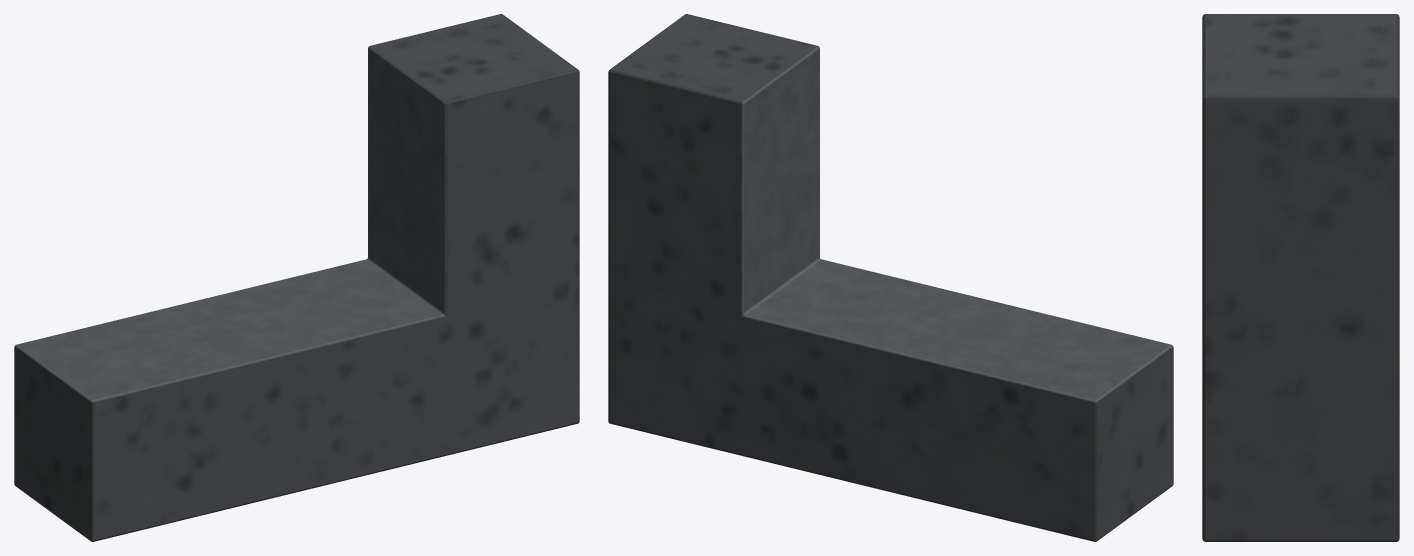
The model's file is C-stylized-tooling.glb.
3 views of the same model, side by side, from view 1: azimuth 30°, elevation 25°; view 2: azimuth 150°, elevation 25°; view 3: azimuth 270°, elevation 25° (orthographic). The views are drawn at different scales.
Parts seen in each view (by area): view 1: C export coupon; view 2: C export coupon; view 3: C export coupon.
Part boxes in pixels (x1,y1,x2,y2): C export coupon: (14,14,579,541); C export coupon: (608,14,1173,541); C export coupon: (1202,14,1399,541).
Size of the model in its own units: 2.6 by 1.8 by 0.72.
2 materials, 2 textured.
